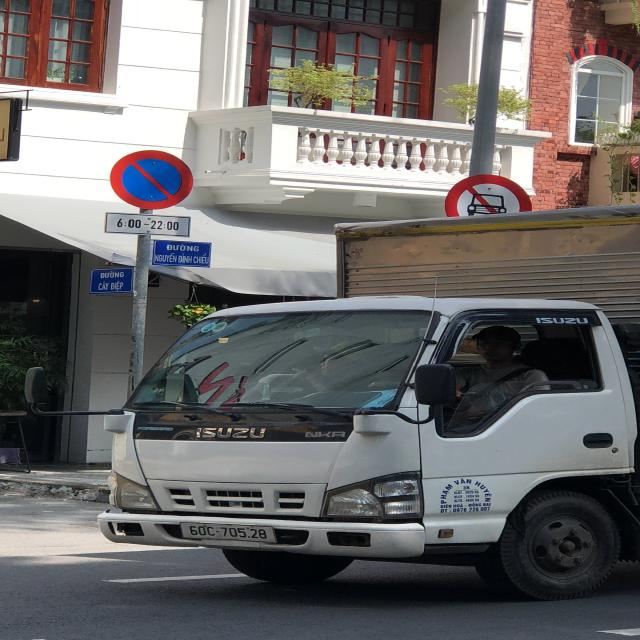Bien bao cam do xe: (110, 148, 196, 214)
Bien bao cam xe oto: (439, 168, 536, 225)
